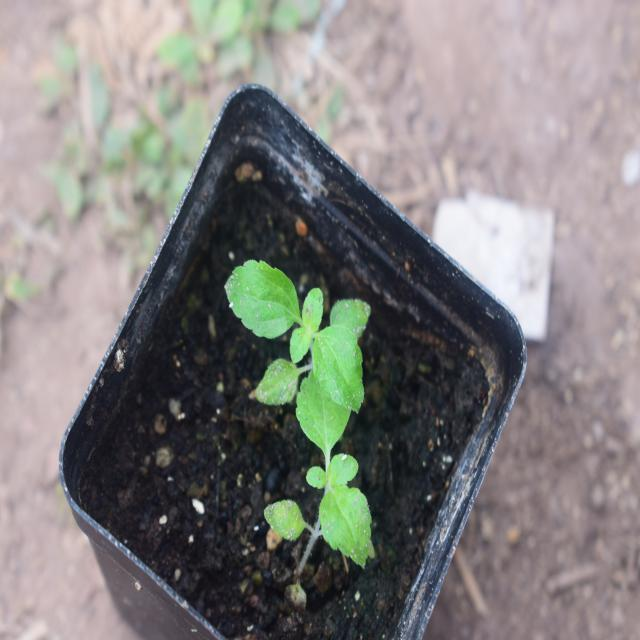billygoat_weed: (236, 254, 384, 416), (285, 382, 370, 569)
